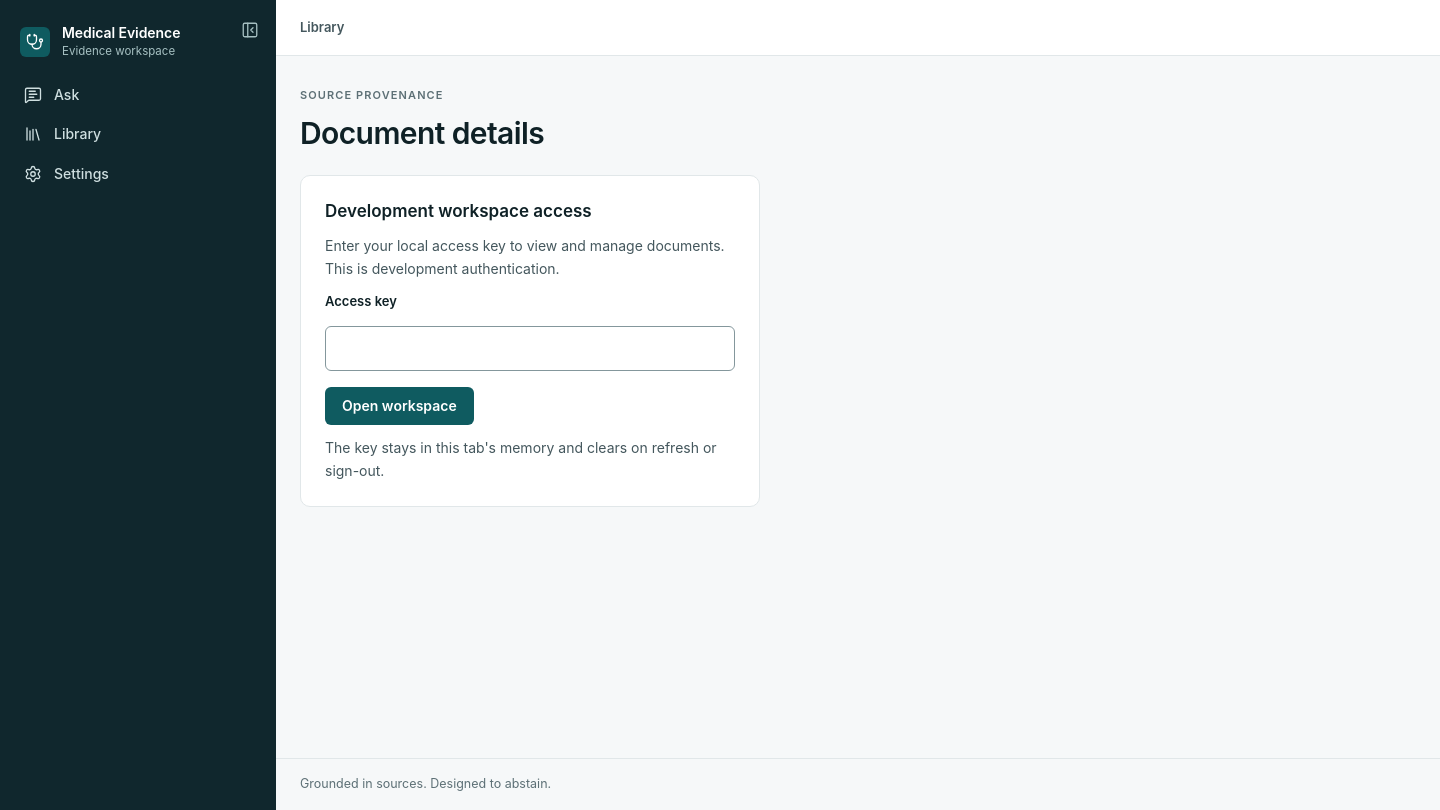
Test case: M2 parse status on the document details page › shows real parser, counts, OCR and validation state
Step 1. Type "local-test-key" into the password field labelled "Access key" → (530, 349), box [325,326,735,371]
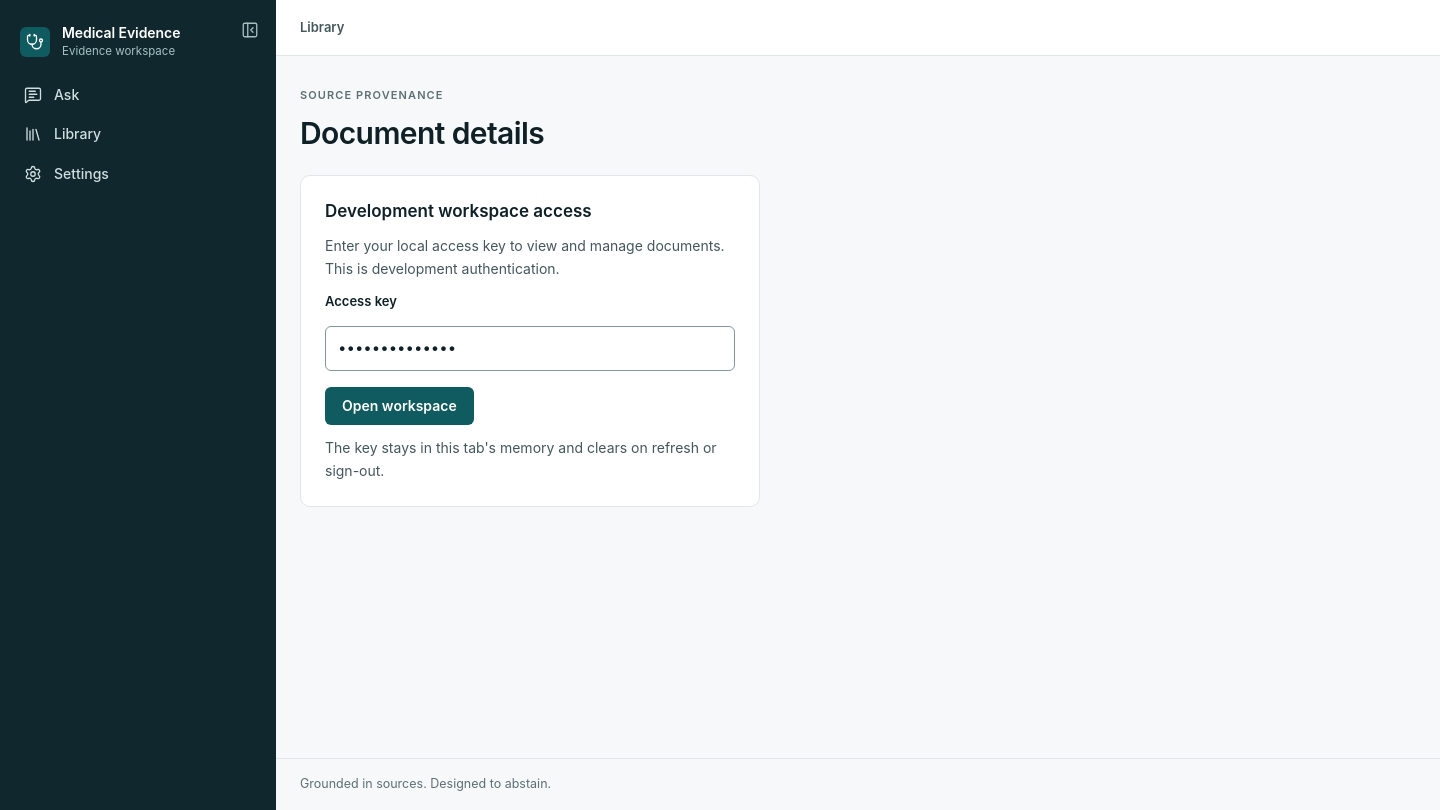
Step 2. Click the button "Open workspace" → (399, 406), box [325,387,474,425]
(page scrolled)
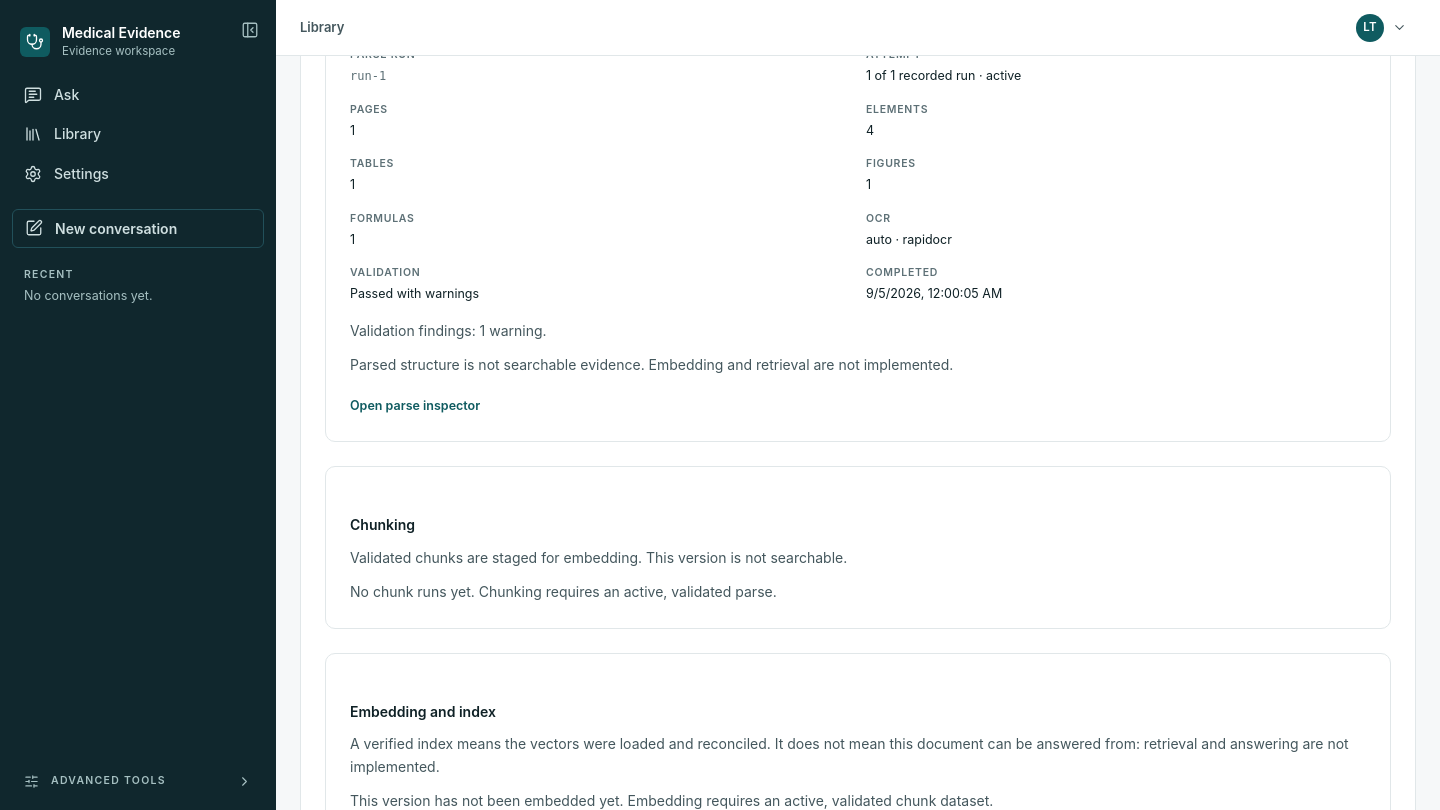
Result: the button named "Account and workspace" is shown at [1351,8,1416,46]
Result: the text "Passed with warnings" is shown at [350,286,479,301]
Result: the text "Validation findings: 1 warning." is shown at [350,322,547,339]
